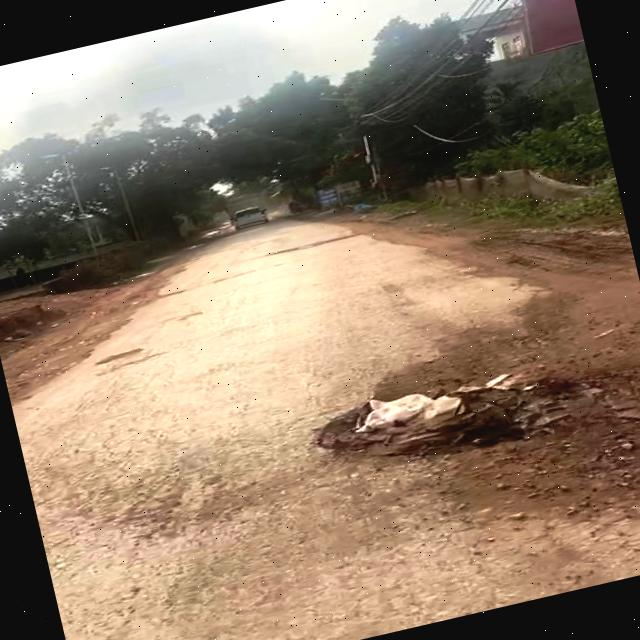pothole: (306, 345, 605, 492)
